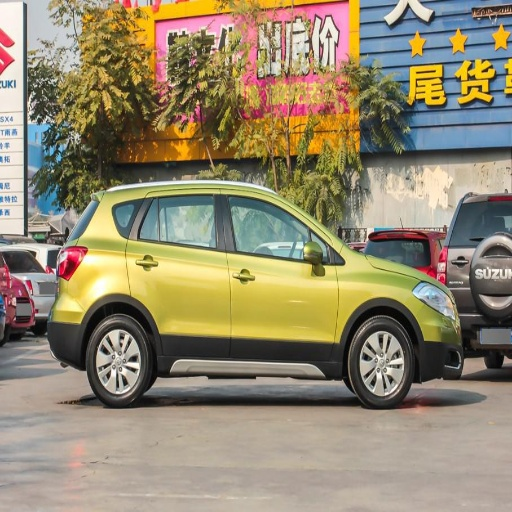back_right_door: (127, 185, 230, 359)
front_right_door: (223, 187, 338, 358)
